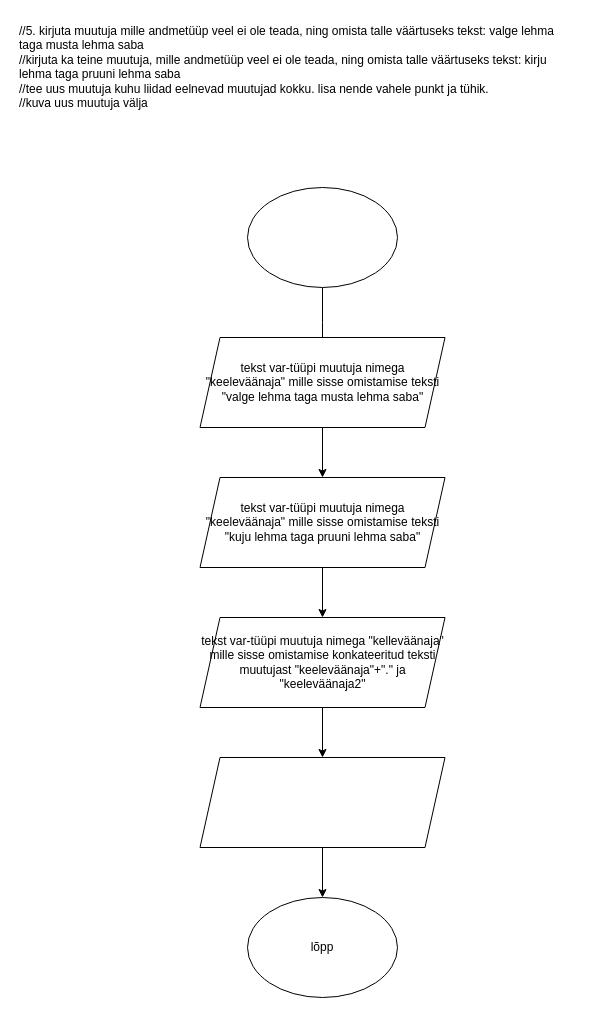
Image size: 594x1015. Some labels were removed from this diagram. Here are the shapes that lost their labels. From the top down, the centre of each, then its label:
point (322, 237): algus
point (322, 802): kuva kasutajale muutuja "keeleväänaja3" välja
